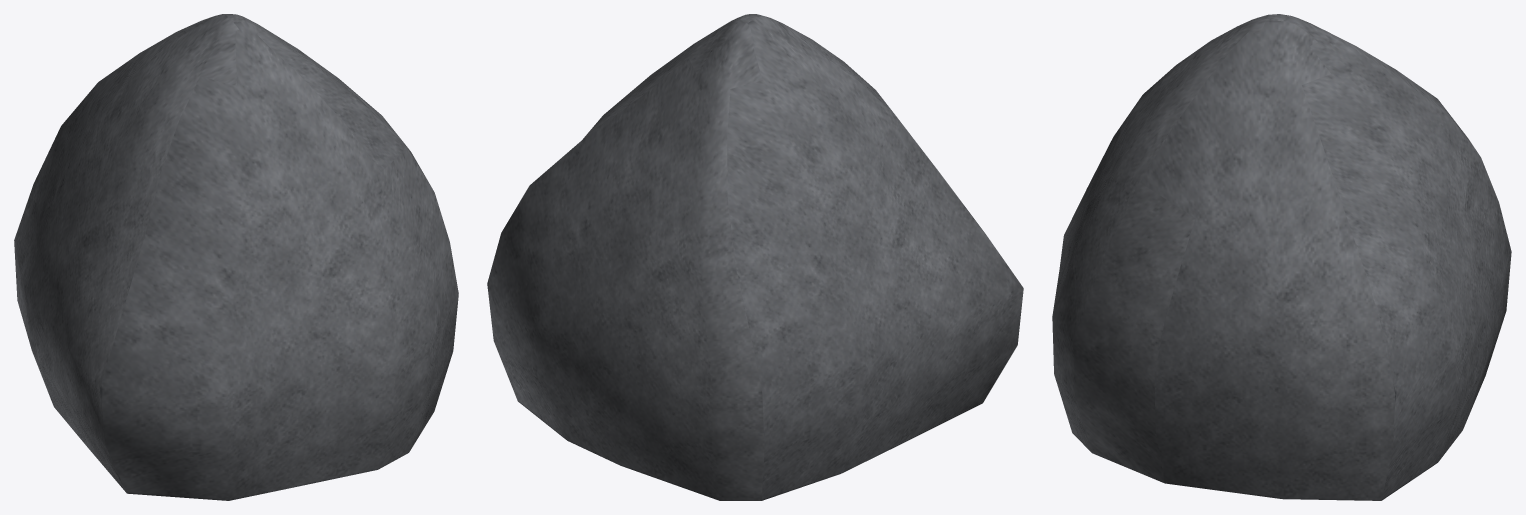
The model's file is yuvarlak_tas_kucuk.FBX.
The picture shows the model from 3 angles, left to right: view 1: azimuth 30°, elevation 25°; view 2: azimuth 150°, elevation 25°; view 3: azimuth 270°, elevation 25°; orthographic projection.
Visible parts, largest first — view 1: Cone003; view 2: Cone003; view 3: Cone003.
Part boxes in pixels (bbox=[...]): Cone003: bbox=[14, 14, 458, 500]; Cone003: bbox=[487, 14, 1023, 500]; Cone003: bbox=[1052, 14, 1511, 500].
Size of the model in its own units: 96.89 by 88.41 by 93.06.
1 material, 1 textured.
